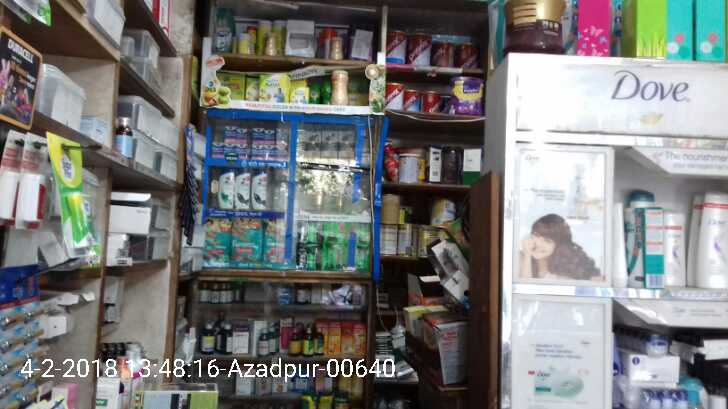vicks: (209, 119, 291, 160)
